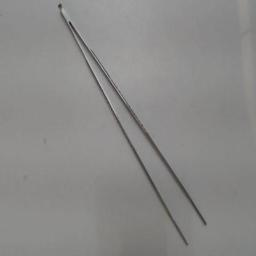DeBakey Dissector: (48, 0, 218, 250)
